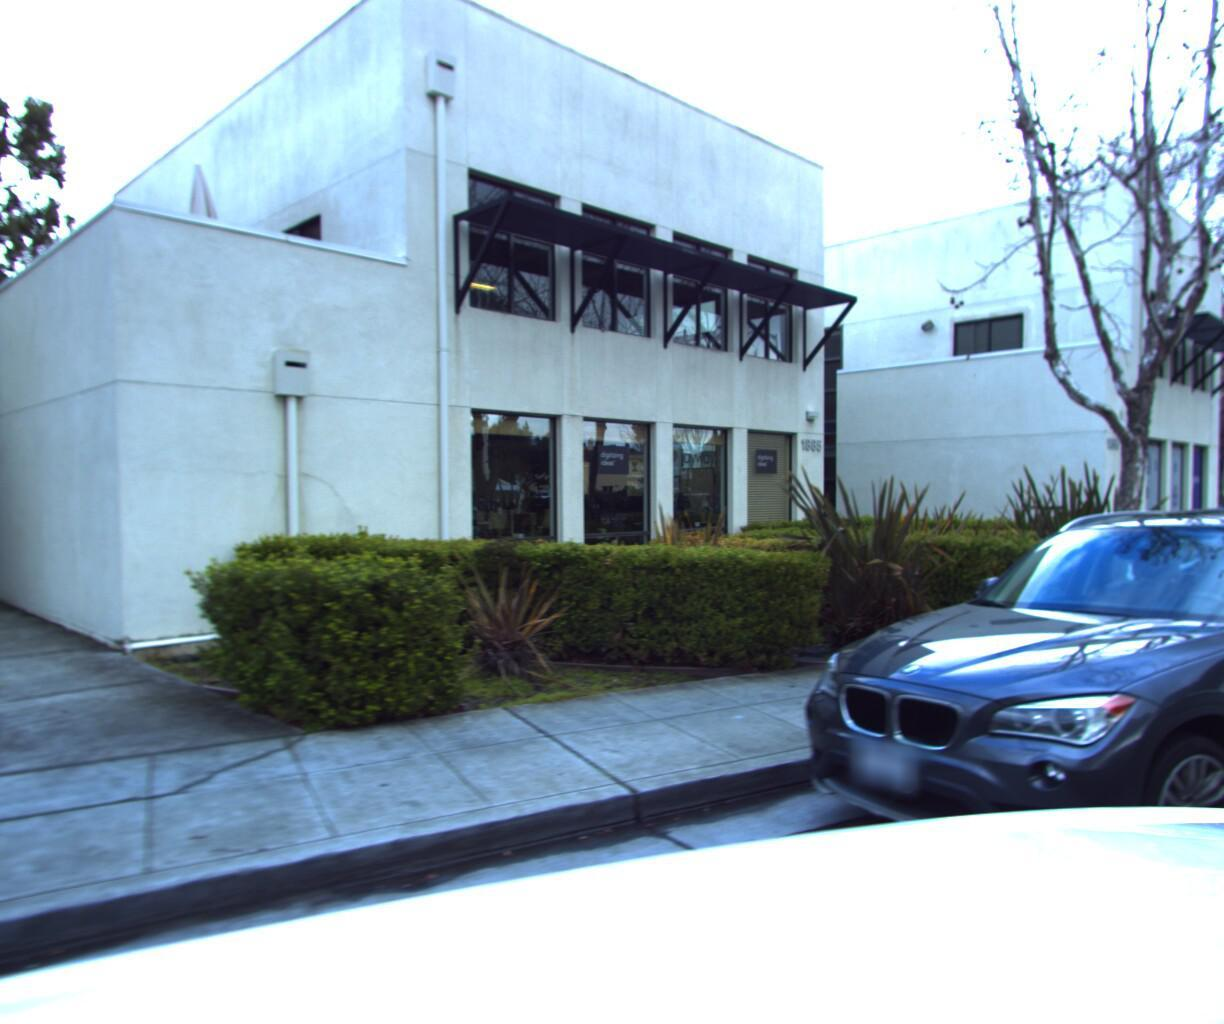car: (768, 496, 1224, 997)
